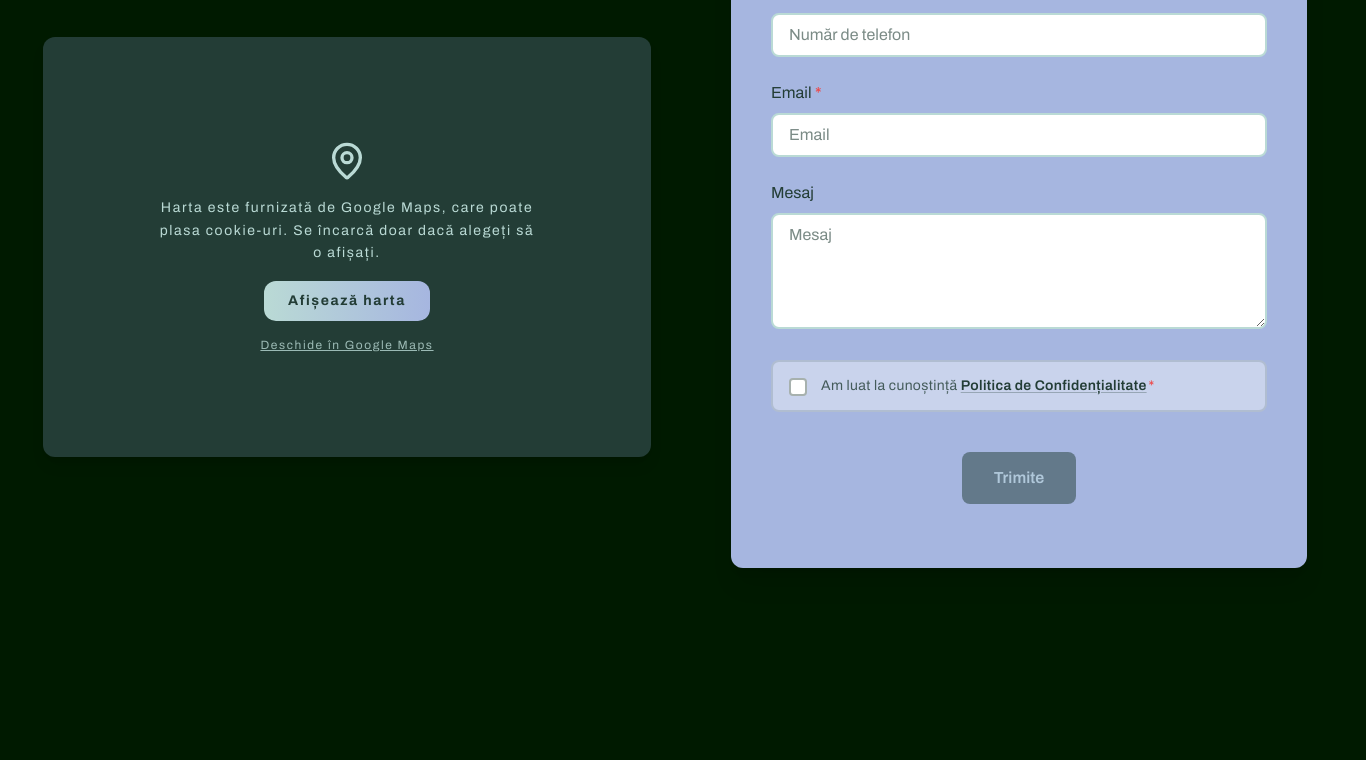
ContactSection › submit button becomes disabled again when unchecking the consent checkbox
The image size is (1366, 760).
(page scrolled)
Click the checkbox labelled "Am luat la cunoștință Politica de Confidențialitate *" at (1019, 386), box [771, 360, 1267, 412]
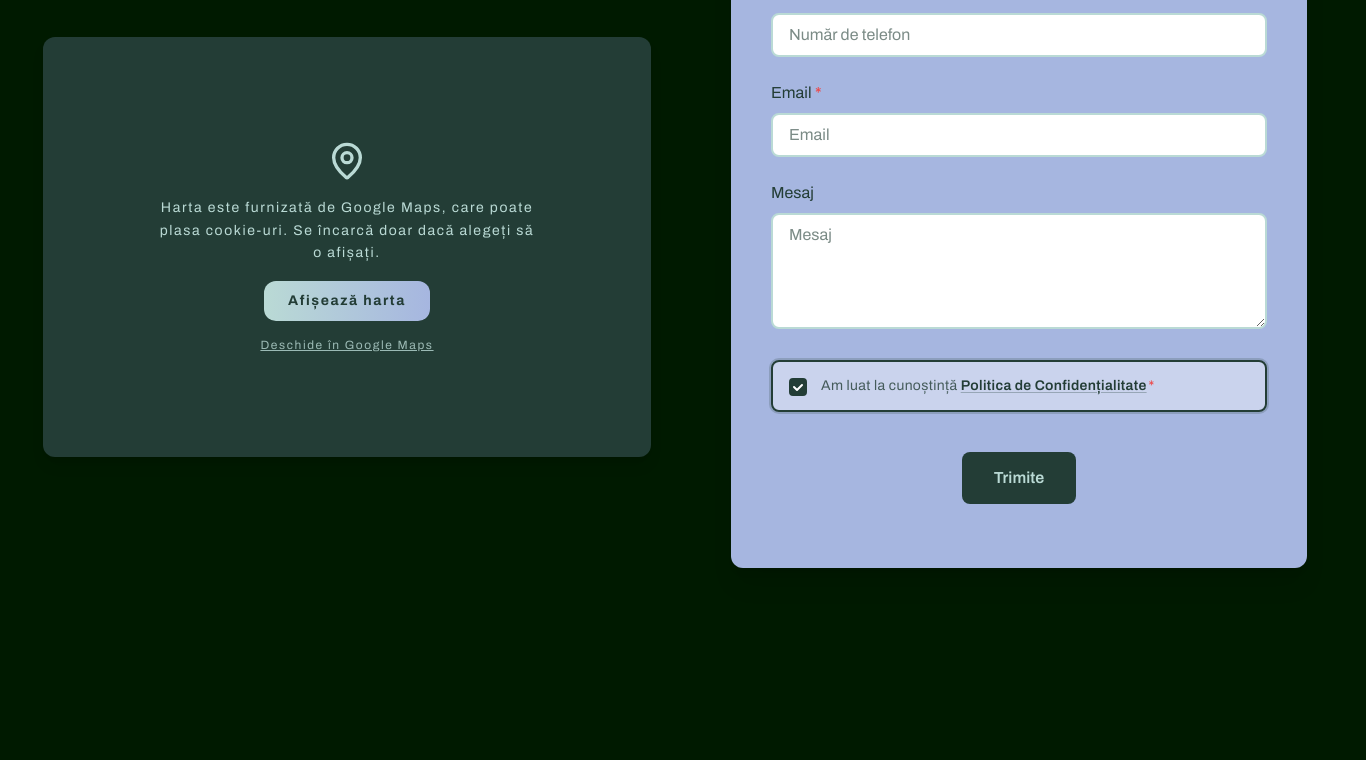
Expected: the button "Trimite" is enabled, [962, 452, 1076, 504]
Click the checkbox labelled "Am luat la cunoștință Politica de Confidențialitate *" at (1019, 386), box [771, 360, 1267, 412]
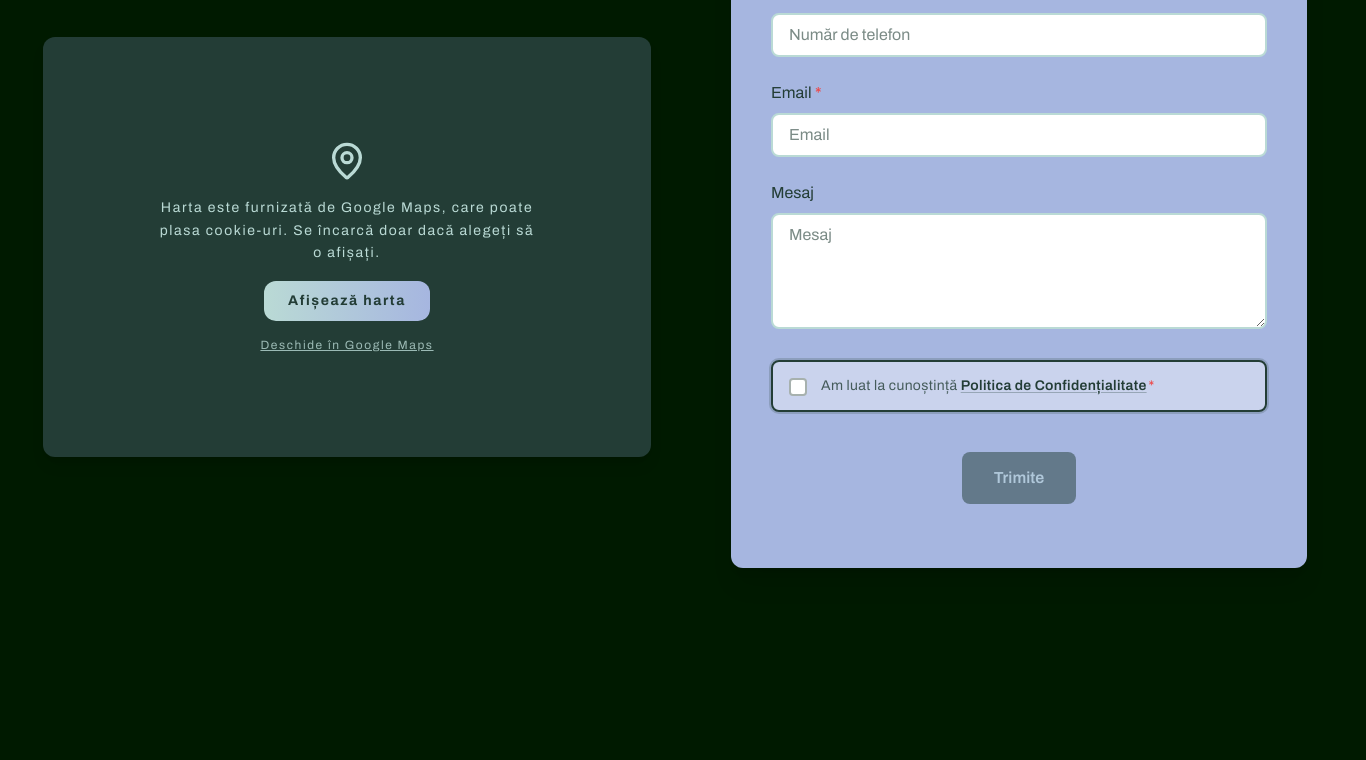
Expected: the button "Trimite" is disabled, [962, 452, 1076, 504]
